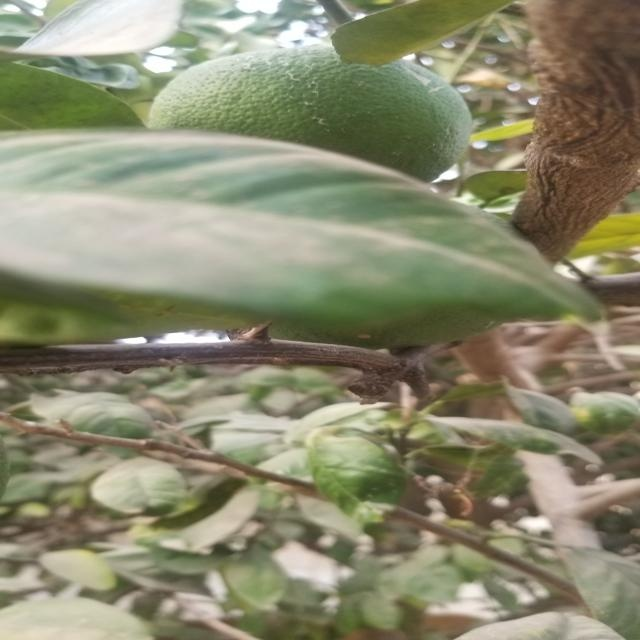agrume: (156, 48, 476, 184)
